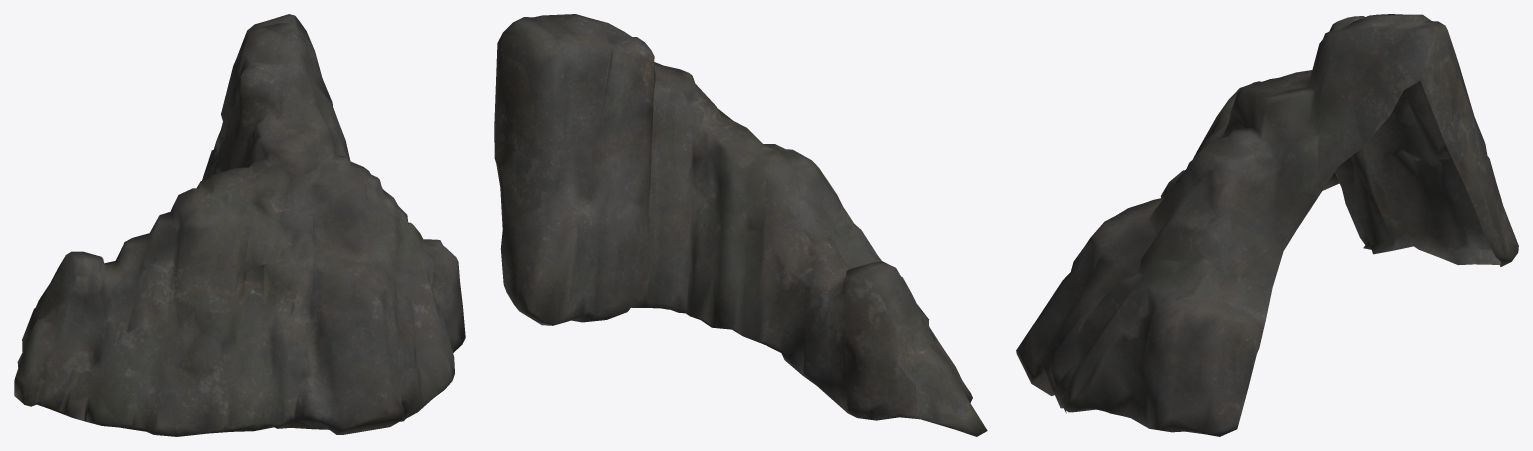
Rendered from Cliff_W2_05.fbx.
The picture shows the model from 3 angles, left to right: view 1: azimuth 30°, elevation 25°; view 2: azimuth 150°, elevation 25°; view 3: azimuth 270°, elevation 25°; orthographic projection. The views are drawn at different scales.
Parts seen in each view (by area): view 1: SM_W2_Cliff_05.mo; view 2: SM_W2_Cliff_05.mo; view 3: SM_W2_Cliff_05.mo.
Boxes of the visible parts, x1,y1,x2,y2 form: SM_W2_Cliff_05.mo: (14,14,465,436); SM_W2_Cliff_05.mo: (494,14,987,436); SM_W2_Cliff_05.mo: (1016,14,1518,436).
Size of the model in its own units: 4036 by 2913 by 3356.
Materials: 1 (1 with a texture image).
